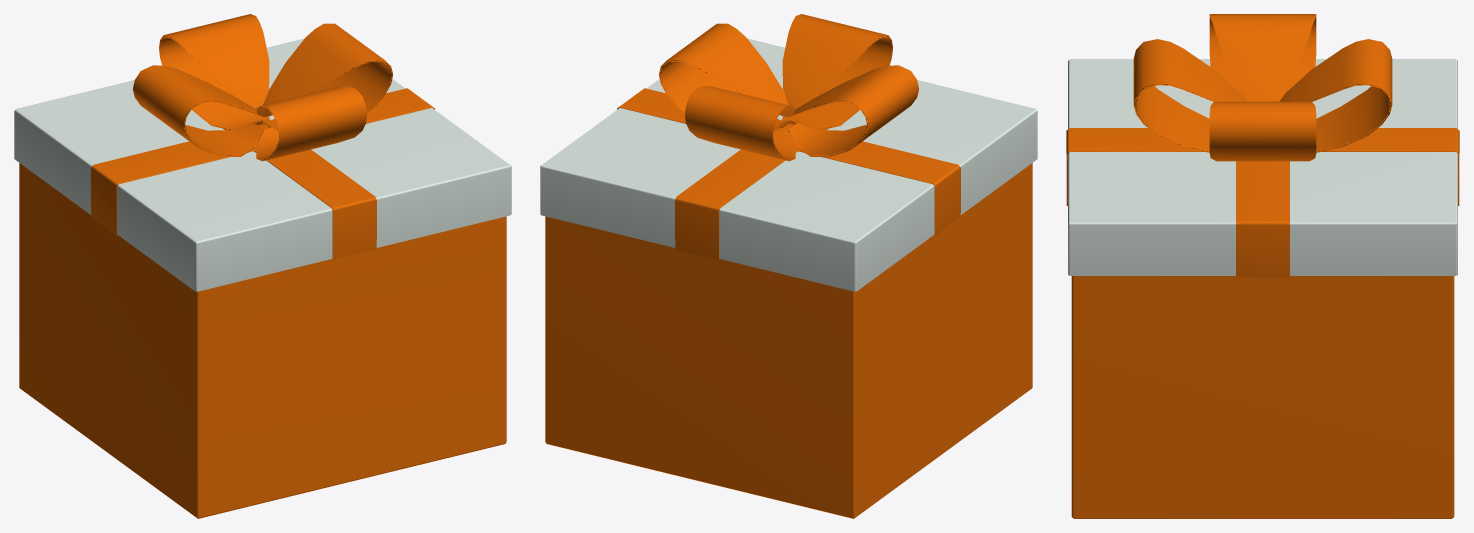
The model's file is gift_orange.glb.
3 renders of one model, left to right at view 1: azimuth 30°, elevation 25°; view 2: azimuth 150°, elevation 25°; view 3: azimuth 270°, elevation 25°, orthographic. The views are drawn at different scales.
Visible parts, largest first — view 1: SK_GiftBox.008, SK_GiftBox.007, SK_GiftBox.006; view 2: SK_GiftBox.008, SK_GiftBox.007, SK_GiftBox.006; view 3: SK_GiftBox.008, SK_GiftBox.007, SK_GiftBox.006.
Boxes of the visible parts, x1,y1,x2,y2 form: SK_GiftBox.008: [19, 163, 506, 518]; SK_GiftBox.007: [14, 38, 511, 291]; SK_GiftBox.006: [91, 14, 434, 259]; SK_GiftBox.008: [545, 163, 1032, 518]; SK_GiftBox.007: [540, 38, 1037, 291]; SK_GiftBox.006: [617, 14, 960, 259]; SK_GiftBox.008: [1071, 276, 1454, 518]; SK_GiftBox.007: [1068, 59, 1457, 275]; SK_GiftBox.006: [1066, 14, 1459, 277].
Size of the model in its own units: 1.88 by 2 by 1.88.
